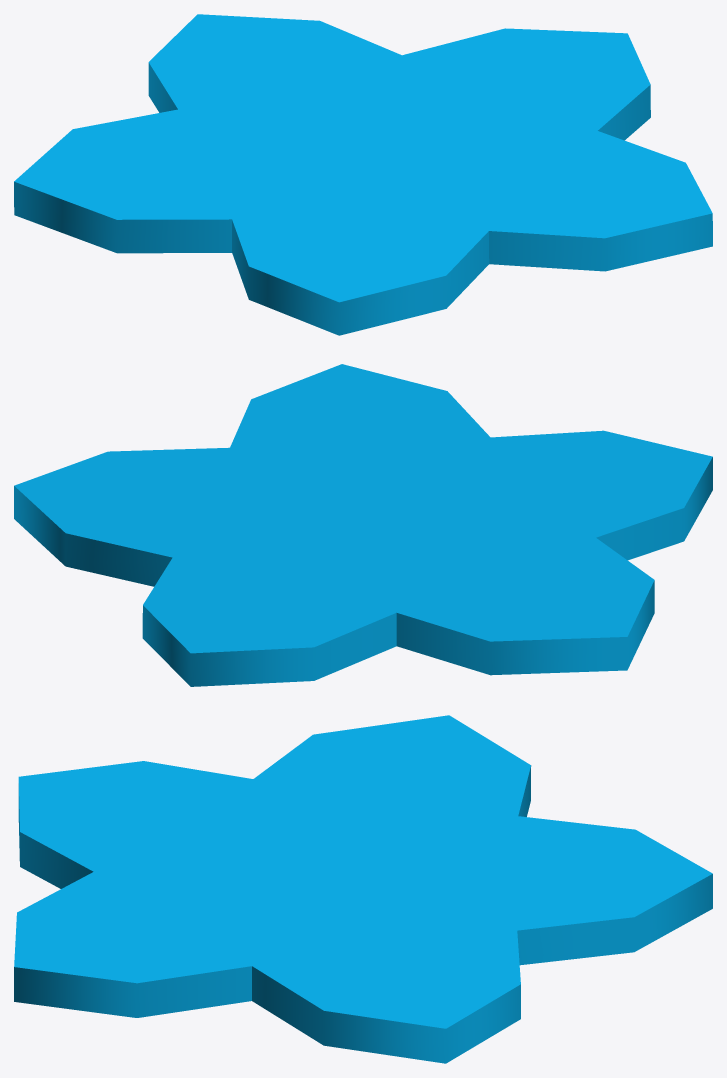
Rendered from Flower_2.FBX.
3 renders of one model, top to bottom at view 1: azimuth 30°, elevation 25°; view 2: azimuth 150°, elevation 25°; view 3: azimuth 270°, elevation 25°, orthographic. The views are drawn at different scales.
Visible parts, largest first — view 1: Flower_2; view 2: Flower_2; view 3: Flower_2.
Part boxes in pixels (x1,y1,x2,y2): Flower_2: (14, 14, 712, 335); Flower_2: (14, 364, 712, 686); Flower_2: (14, 715, 712, 1063).
Size of the model in its own units: 0.1604 by 0.0105 by 0.151.
Materials: 1 (1 with a texture image).
